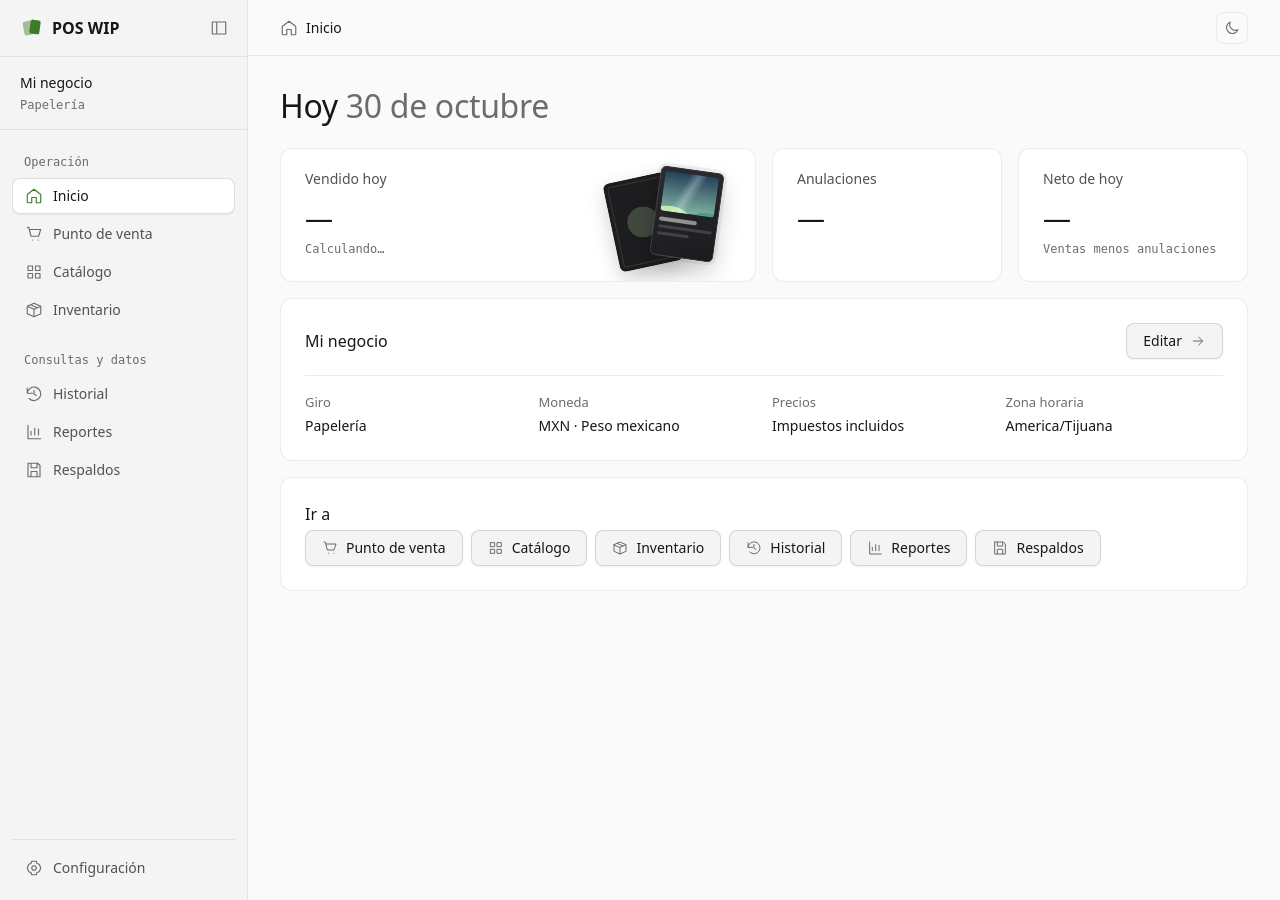
Test: flujo del POS (puente Tauri simulado) › mantiene moneda y zona bloqueadas cuando ya hay operaciones
Expected: the navigation bar named "Navegación principal" is shown, [12,155,235,488]
Click the button "Configuración" at (124, 868), box [12,850,235,886]
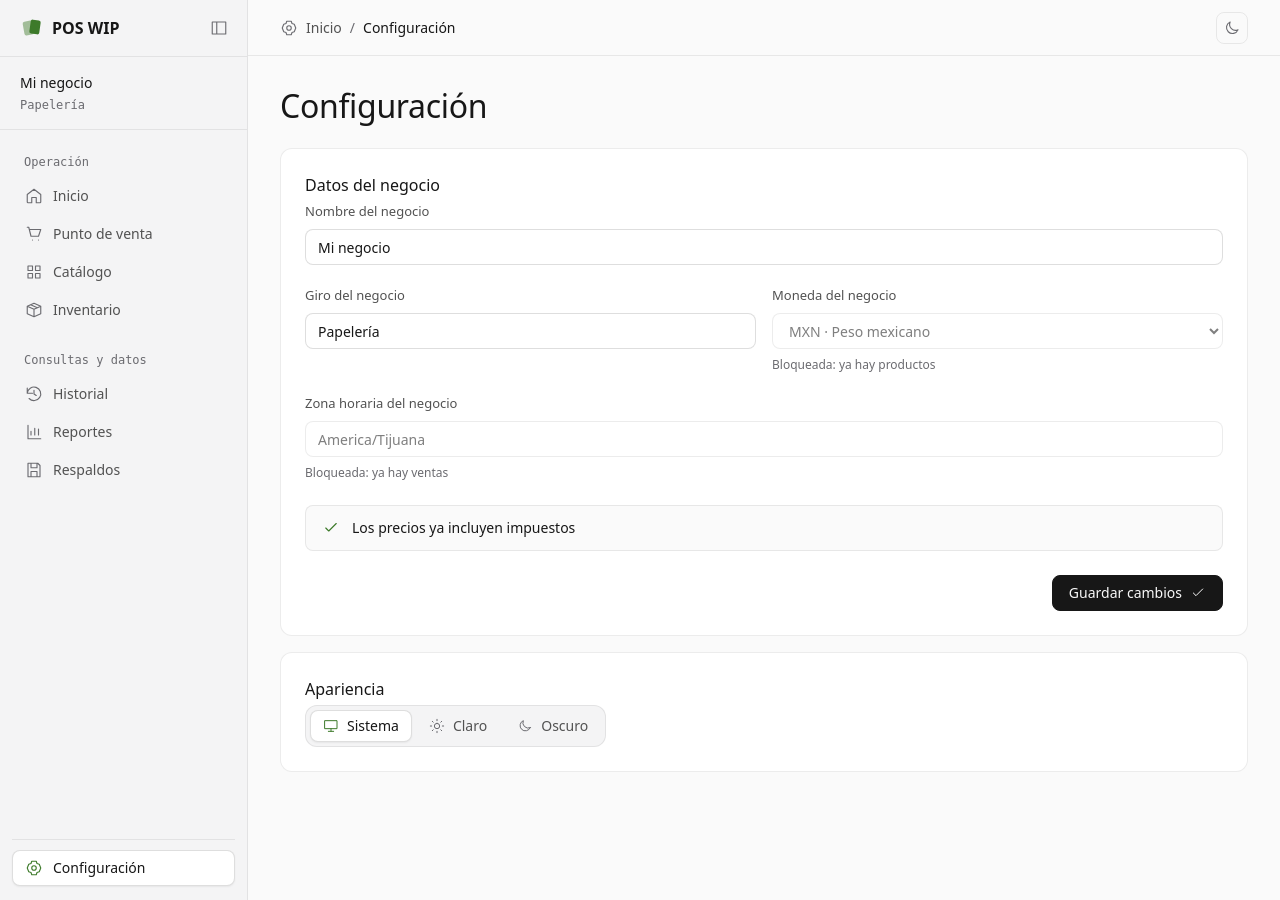
Expected: the dropdown labelled "Moneda del negocio" is disabled, [772,313,1223,349]
Expected: the field labelled "Zona horaria del negocio" is disabled, [305,421,1223,457]
